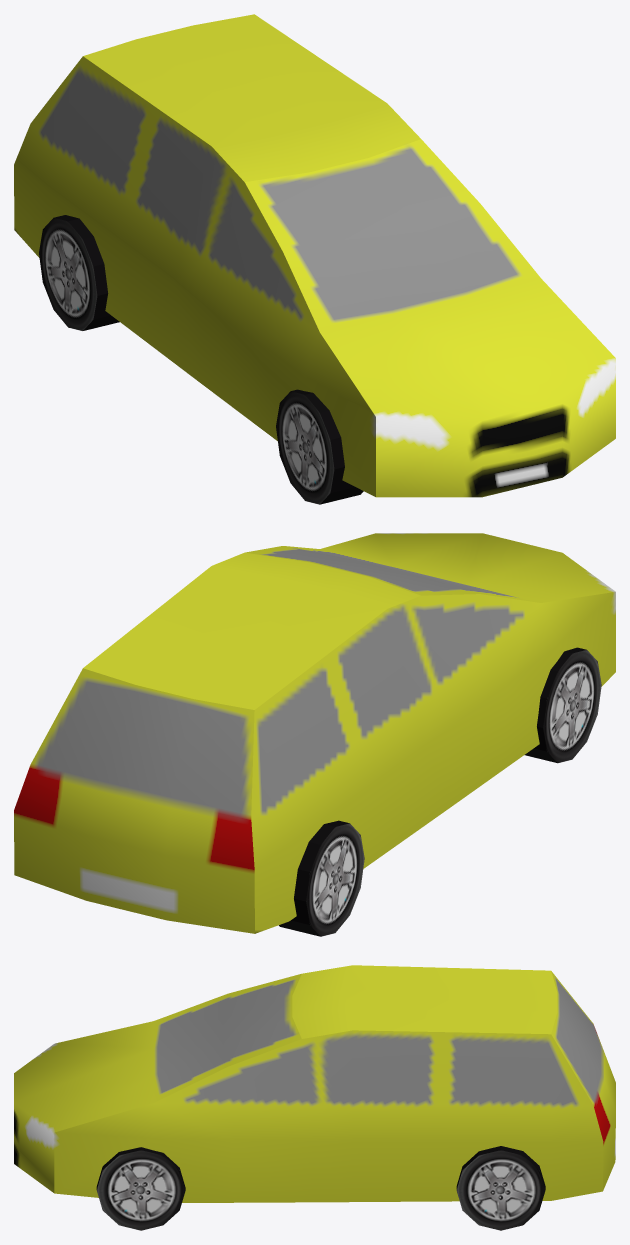
The model's file is car.fbx.
3 views of the same model, one above another, from view 1: azimuth 30°, elevation 25°; view 2: azimuth 150°, elevation 25°; view 3: azimuth 270°, elevation 25° (orthographic). The views are drawn at different scales.
Parts seen in each view (by area): view 1: pCube1; view 2: pCube1; view 3: pCube1.
Boxes of the visible parts, bbox=[...] form: pCube1: bbox=[14, 14, 615, 504]; pCube1: bbox=[14, 533, 615, 936]; pCube1: bbox=[14, 965, 615, 1230].
Bounding box in the file's own units: 1.82 × 1.57 × 4.67.
